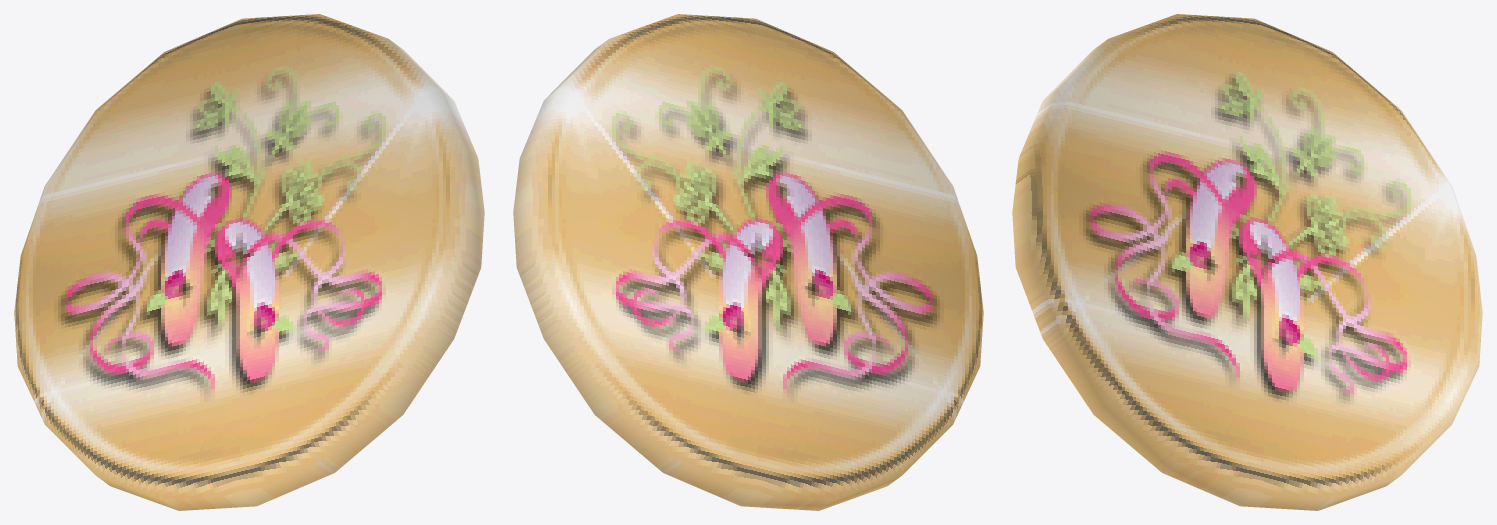
The model's file is ps2_save-icons_barbie12dancingprincesses.glb.
3 renders of one model, left to right at view 1: azimuth 30°, elevation 25°; view 2: azimuth 150°, elevation 25°; view 3: azimuth 330°, elevation 25°, orthographic.
Visible parts, largest first — view 1: icon.ico; view 2: icon.ico; view 3: icon.ico.
Boxes of the visible parts, bbox=[...] form: icon.ico: bbox=[14, 14, 484, 510]; icon.ico: bbox=[513, 14, 983, 510]; icon.ico: bbox=[1012, 14, 1482, 510].
Size of the model in its own units: 4.04 by 4.04 by 0.4128.
Materials: 1 (1 with a texture image).
